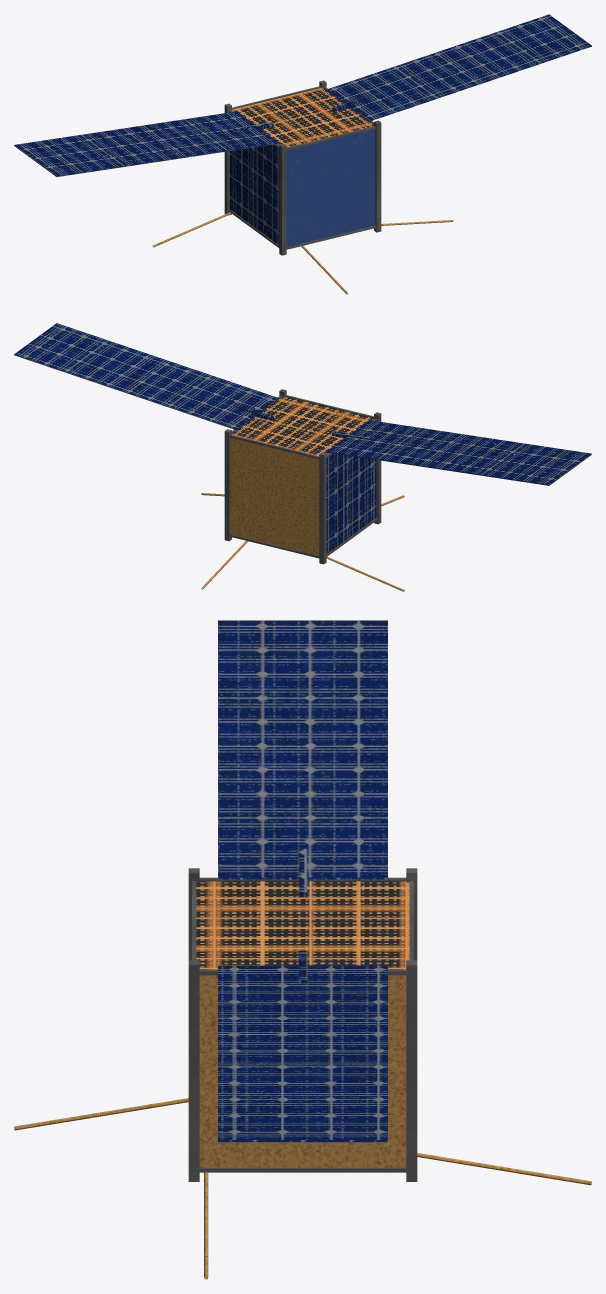
Rendered from cubesat-2.glb.
3 renders of one model, top to bottom at view 1: azimuth 30°, elevation 25°; view 2: azimuth 150°, elevation 25°; view 3: azimuth 270°, elevation 25°, orthographic. The views are drawn at different scales.
Parts seen in each view (by area): view 1: cubesat; view 2: cubesat; view 3: cubesat.
Part boxes in pixels (x1,y1,x2,y2): cubesat: (14,14,591,294); cubesat: (14,323,591,591); cubesat: (14,620,591,1279).
Size of the model in its own units: 0.5652 by 0.1407 by 0.2655.
Materials: 1 (1 with a texture image).
